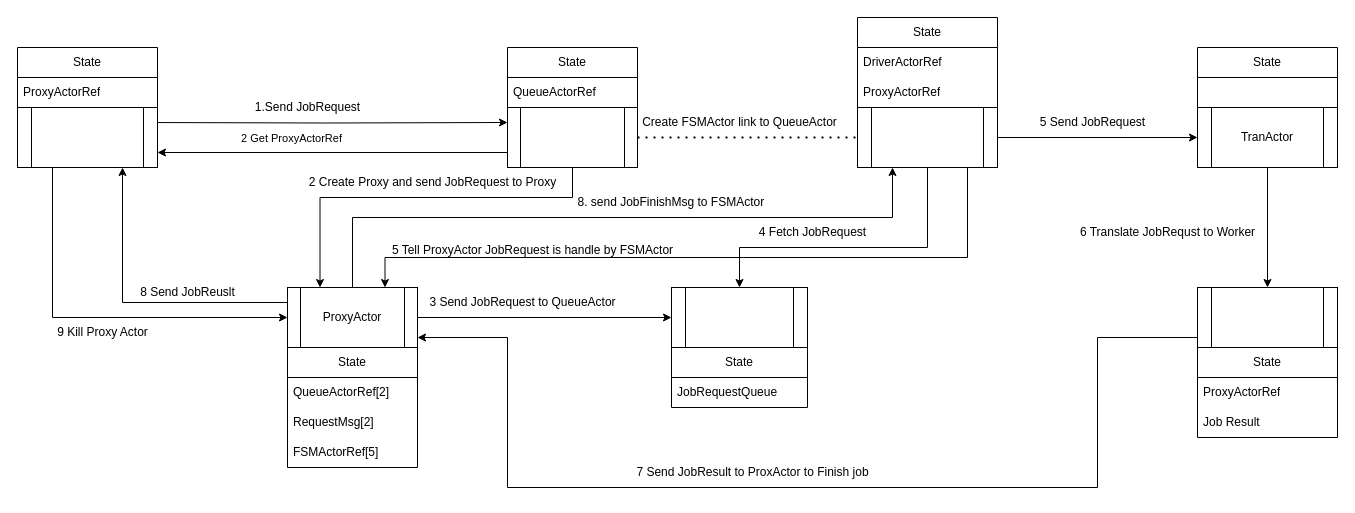
Some shapes in this 1355 by 513 pixel diagram are drawn without their labels. Each missing label, with the box of its shape:
DriverActor: (506, 106, 638, 168)
FSMActor: (856, 106, 998, 168)
QueueActor: (670, 286, 808, 348)
RequestActor: (16, 106, 158, 168)
WorkerActor: (1196, 286, 1338, 348)
